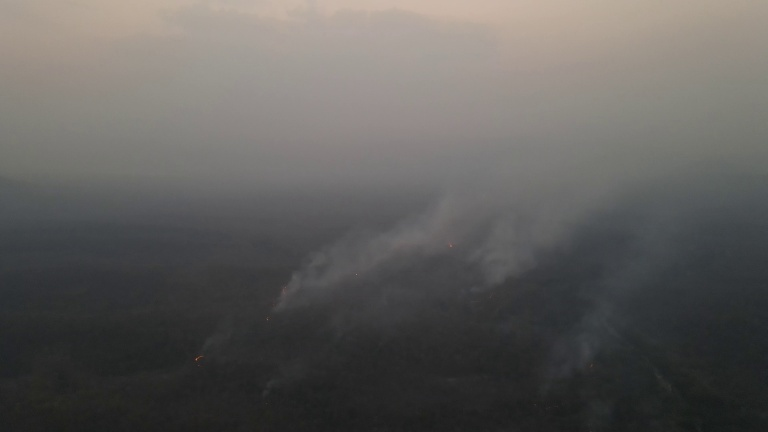fire: (263, 277, 293, 324), (190, 354, 208, 366), (444, 239, 461, 251), (586, 361, 597, 373), (352, 272, 360, 278)
smoke: (276, 151, 582, 342), (535, 264, 663, 405), (258, 355, 312, 401), (199, 311, 240, 360)
